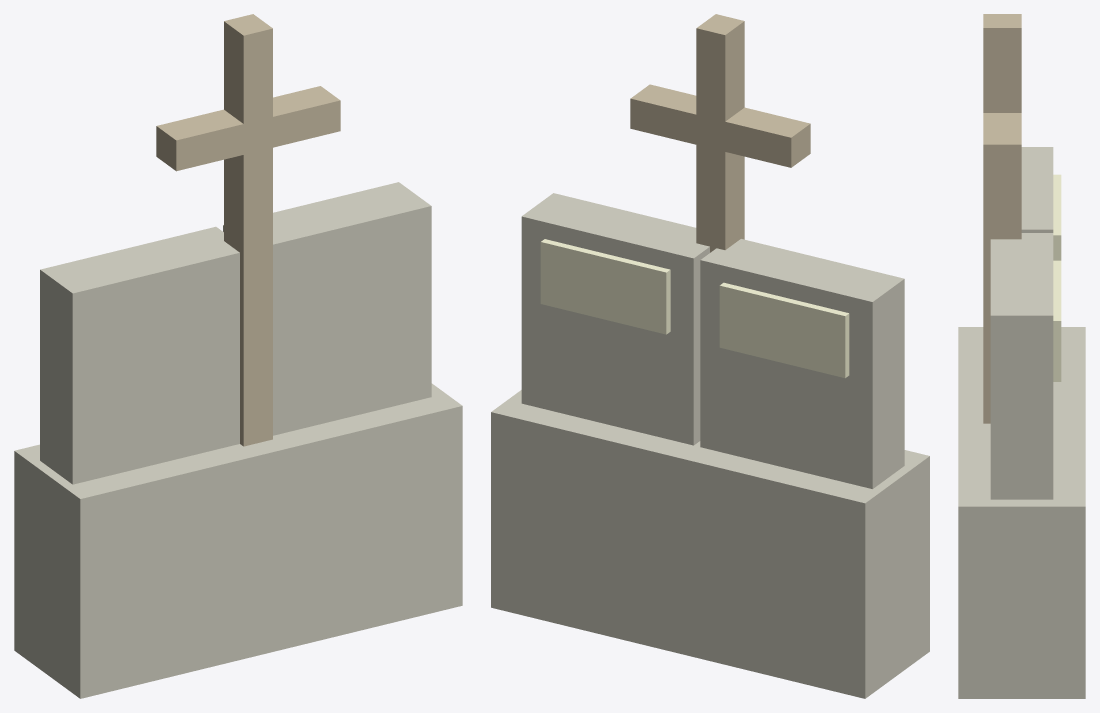
The model's file is props18.fbx.
3 renders of one model, left to right at view 1: azimuth 30°, elevation 25°; view 2: azimuth 150°, elevation 25°; view 3: azimuth 270°, elevation 25°, orthographic. The views are drawn at different scales.
Parts seen in each view (by area): view 1: Cube_5_1; view 2: Cube_5_1; view 3: Cube_5_1.
Part boxes in pixels (bbox=[...]): Cube_5_1: bbox=[14, 14, 462, 698]; Cube_5_1: bbox=[491, 14, 929, 698]; Cube_5_1: bbox=[958, 14, 1085, 698].
Bounding box in the file's own units: 105 × 160 × 31.36.
